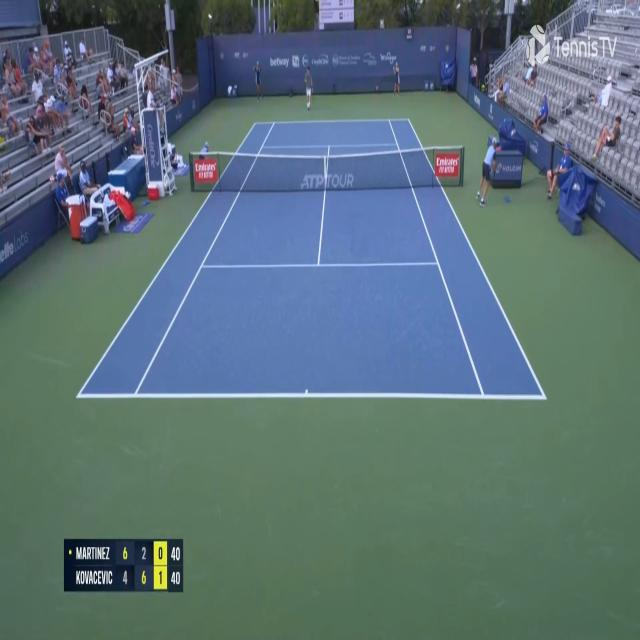tennis-player: (302, 65, 314, 110)
